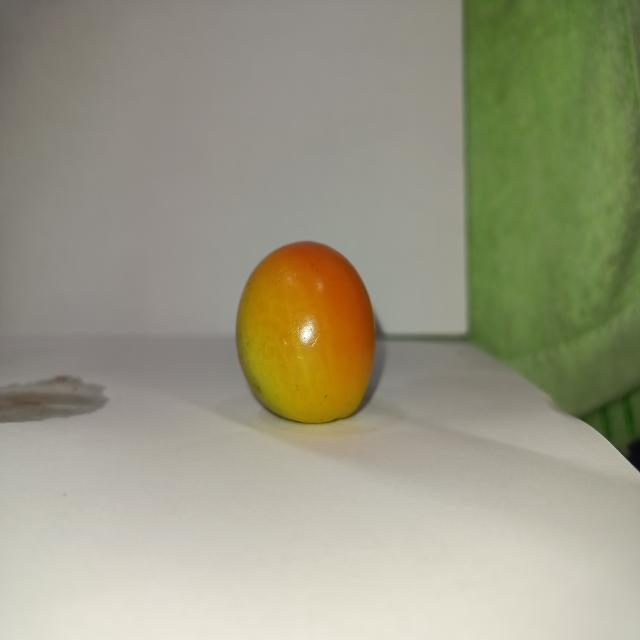Red: (234, 239, 377, 424)
